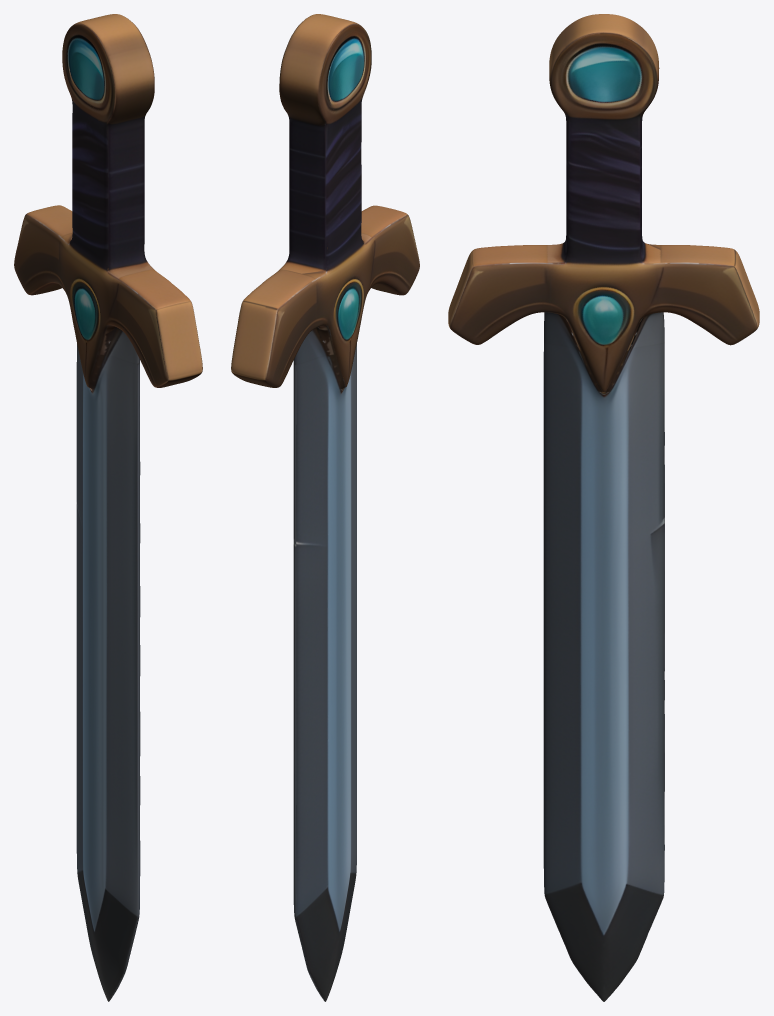
File: Sword 01.fbx
3 views of the same model, side by side, from view 1: azimuth 30°, elevation 25°; view 2: azimuth 150°, elevation 25°; view 3: azimuth 270°, elevation 25° (orthographic).
Visible parts, largest first — view 1: Sword 01; view 2: Sword 01; view 3: Sword 01.
Boxes of the visible parts, x1=… form: Sword 01: x1=14, y1=14, x2=202, y2=1001; Sword 01: x1=231, y1=14, x2=419, y2=1001; Sword 01: x1=448, y1=14, x2=759, y2=1001.
Size of the model in its own units: 9.48 by 189 by 54.44.
1 material, 1 textured.
